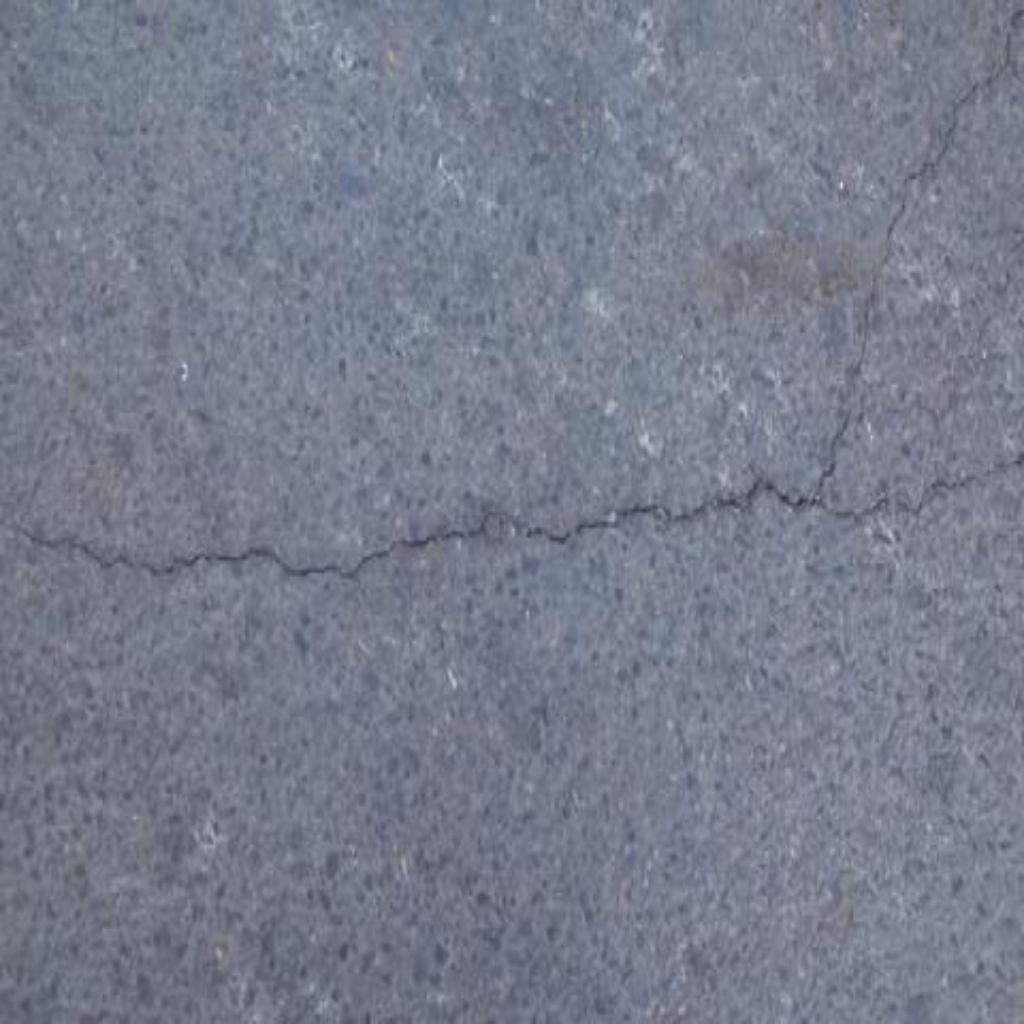Crack: (1, 458, 1024, 582), (813, 33, 1012, 505)
